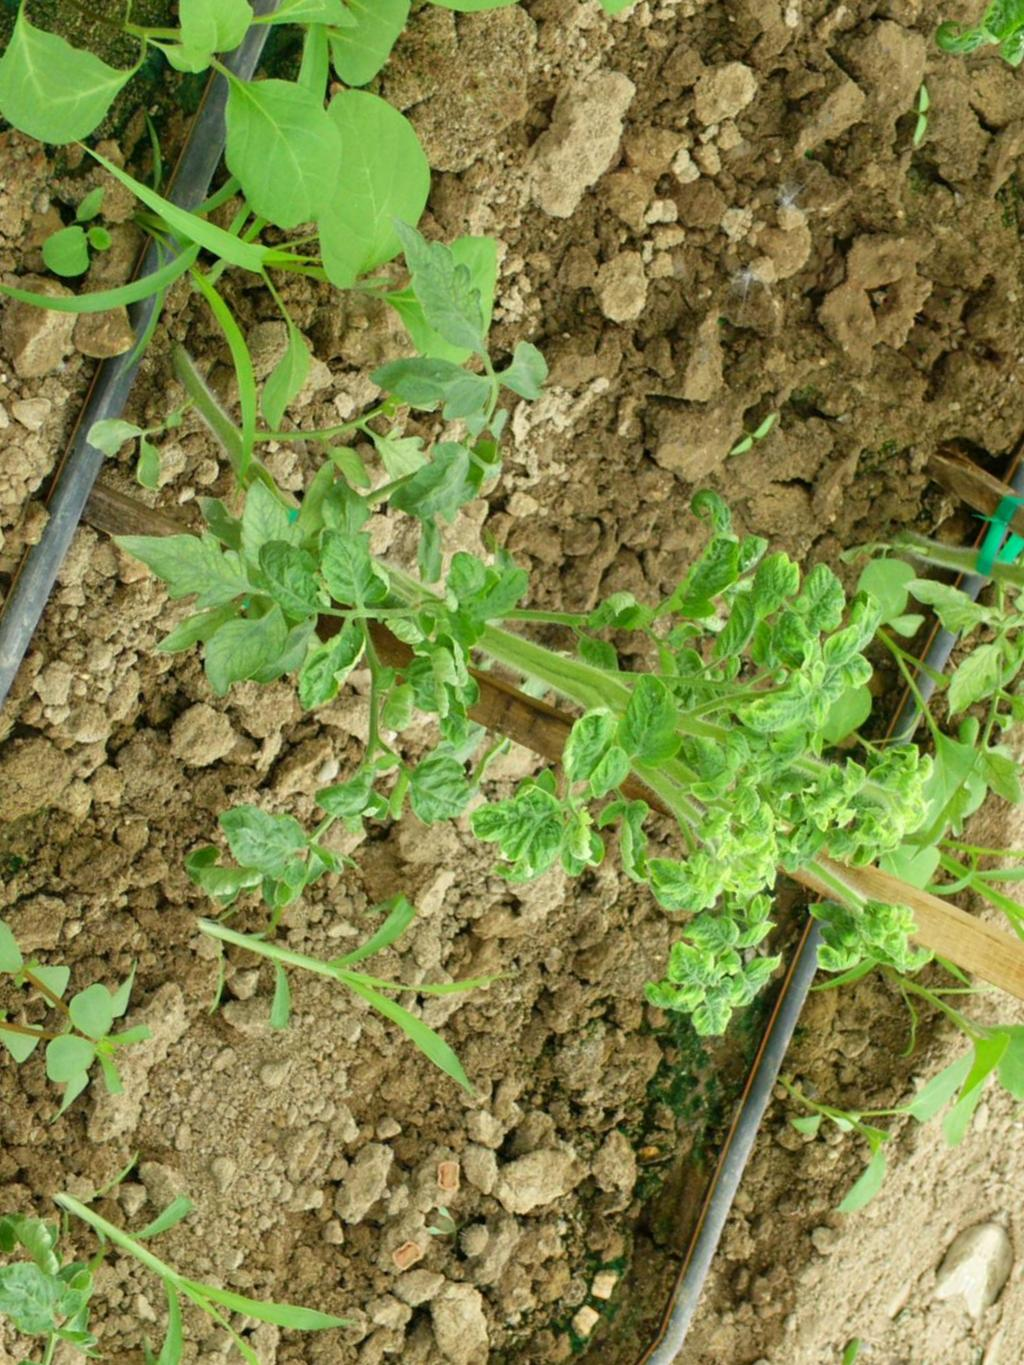Tomato leaf: (98, 492, 286, 641), (358, 213, 520, 367), (593, 657, 709, 792), (454, 769, 579, 894), (374, 338, 502, 452), (196, 784, 321, 899), (383, 738, 488, 837)
